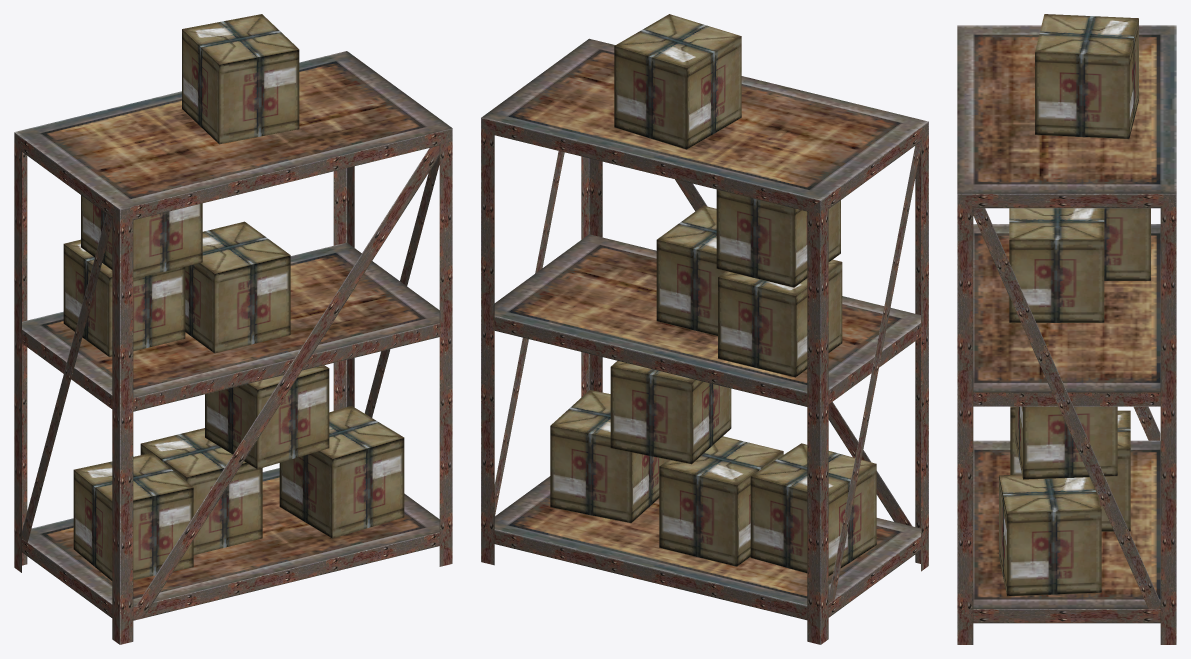
The model's file is storage_shelves_medium.fbx.
3 renders of one model, left to right at view 1: azimuth 30°, elevation 25°; view 2: azimuth 150°, elevation 25°; view 3: azimuth 270°, elevation 25°, orthographic. The views are drawn at different scales.
Visible parts, largest first — view 1: mesh_2, mesh_0, mesh_1; view 2: mesh_2, mesh_0, mesh_1; view 3: mesh_0, mesh_2, mesh_1.
Boxes of the visible parts, x1,y1,x2,y2 form: mesh_2: (63, 14, 404, 580); mesh_0: (14, 51, 452, 606); mesh_1: (14, 128, 452, 644); mesh_2: (550, 14, 876, 576); mesh_0: (481, 38, 928, 605); mesh_1: (481, 117, 928, 644); mesh_0: (957, 25, 1176, 608); mesh_2: (999, 14, 1150, 596); mesh_1: (957, 193, 1176, 644).
Bounding box in the file's own units: 200 × 296 × 110.
Materials: 3 (3 with a texture image).
